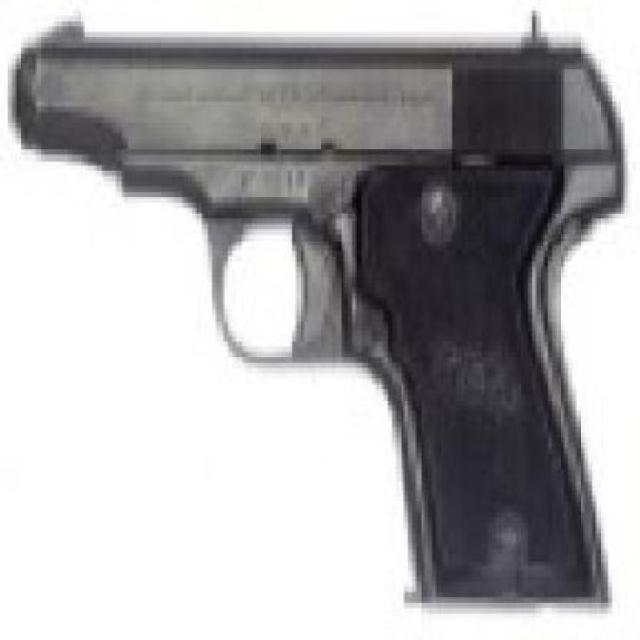guns: (12, 6, 620, 620)
